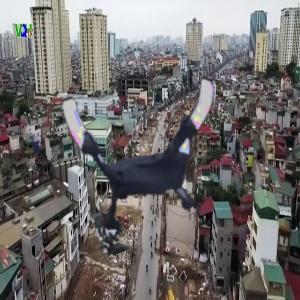drone: (70, 68, 238, 236)
